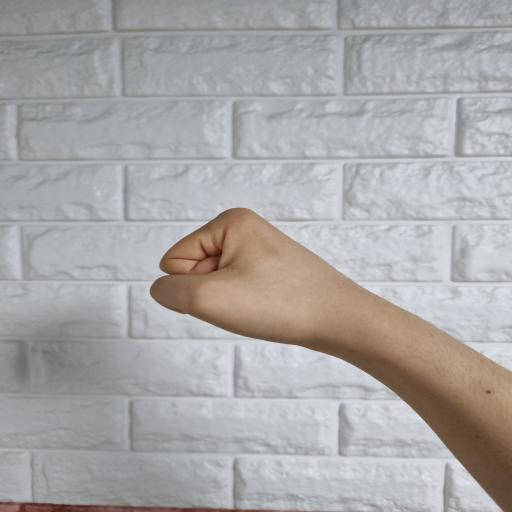Rock: (150, 207, 363, 346)
